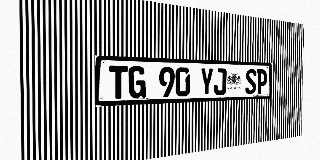0: (175, 67, 190, 97)
9: (159, 67, 175, 97)
G: (128, 66, 146, 98)
J: (214, 68, 226, 95)
P: (256, 69, 267, 94)
S: (245, 69, 256, 94)
T: (109, 65, 128, 99)
Y: (200, 68, 213, 96)
